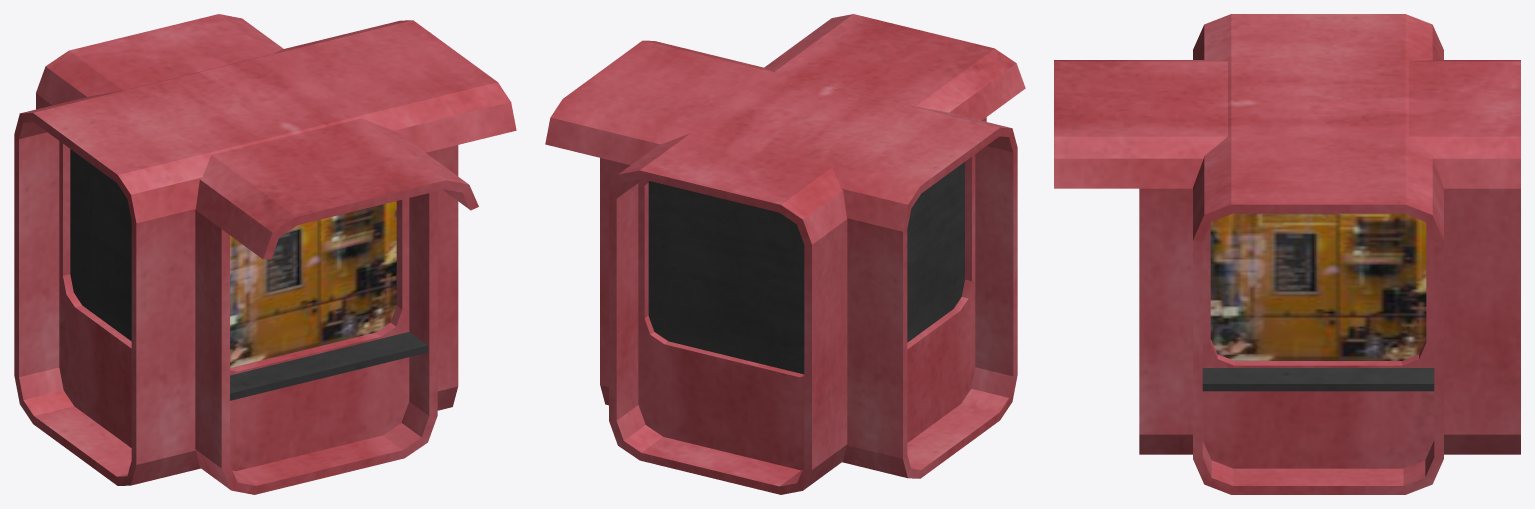
Rendered from kioskK67Red.fbx.
3 views of the same model, side by side, from view 1: azimuth 30°, elevation 25°; view 2: azimuth 150°, elevation 25°; view 3: azimuth 270°, elevation 25° (orthographic). The views are drawn at different scales.
Parts seen in each view (by area): view 1: kioskK67Red; view 2: kioskK67Red; view 3: kioskK67Red.
Boxes of the visible parts, box(x1,y1,x2,y2) form: kioskK67Red: box(14, 14, 516, 494); kioskK67Red: box(545, 14, 1025, 494); kioskK67Red: box(1054, 14, 1520, 494).
Size of the model in its own units: 352 by 275 by 365.
